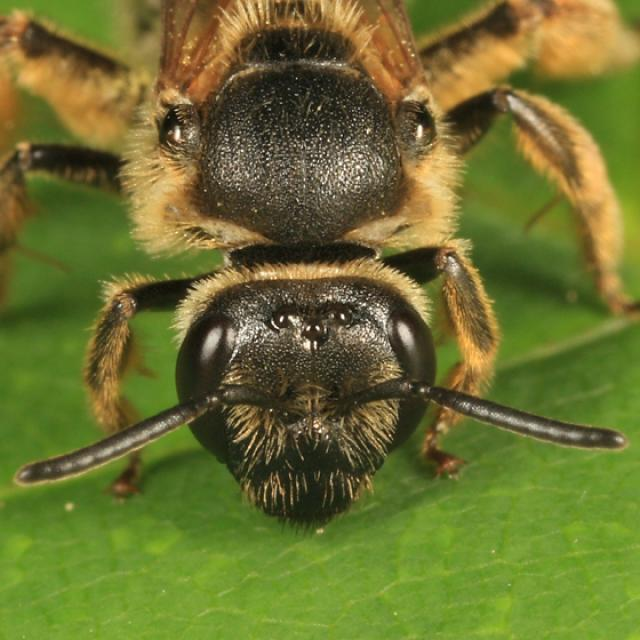Lasioglossum: (5, 0, 628, 570)
